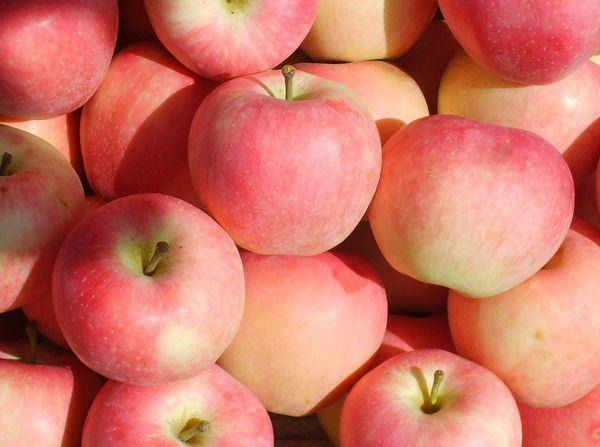apple: (42, 173, 257, 417), (366, 113, 575, 304), (186, 66, 387, 253), (214, 238, 389, 418), (444, 223, 598, 408), (436, 34, 598, 152), (81, 42, 197, 199), (340, 346, 522, 442), (1, 120, 85, 320), (81, 358, 273, 445), (139, 1, 319, 82), (1, 1, 119, 122), (441, 1, 600, 86)
